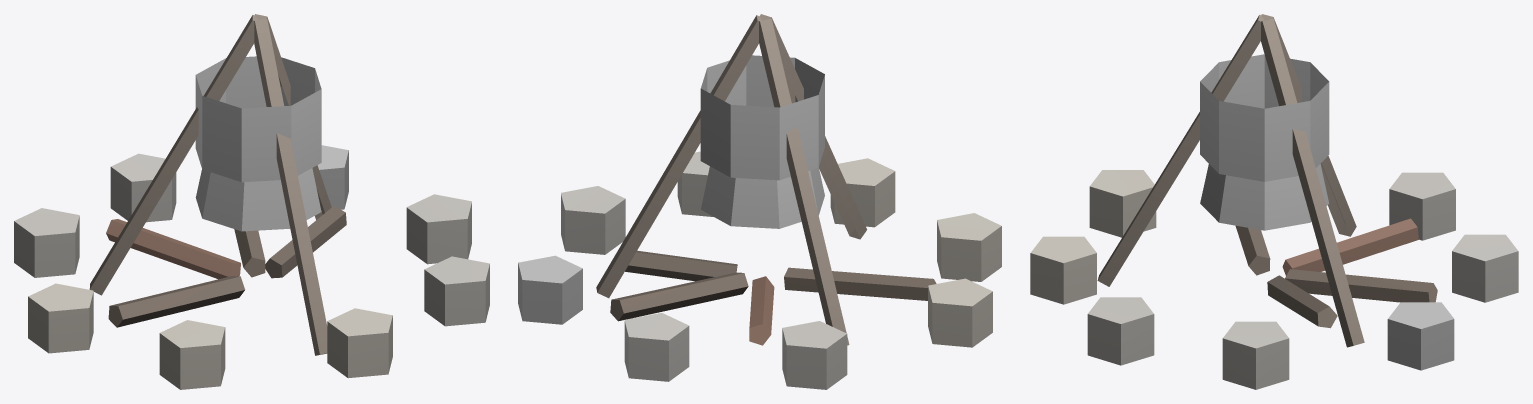
File: campfire_1.glb
The picture shows the model from 3 angles, left to right: view 1: azimuth 30°, elevation 25°; view 2: azimuth 150°, elevation 25°; view 3: azimuth 270°, elevation 25°; orthographic projection.
Parts seen in each view (by area): view 1: campfire_1; view 2: campfire_1; view 3: campfire_1.
Boxes of the visible parts, x1=… form: campfire_1: x1=14, y1=14, x2=489, y2=389; campfire_1: x1=518, y1=14, x2=1001, y2=389; campfire_1: x1=1030, y1=14, x2=1518, y2=389.
Bounding box in the file's own units: 1.83 × 1.12 × 1.81.
